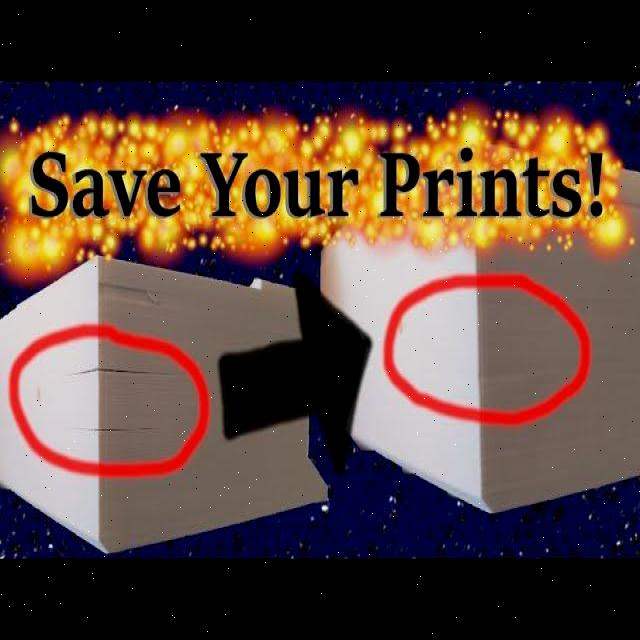cracking: (74, 355, 175, 449), (451, 350, 524, 398)
